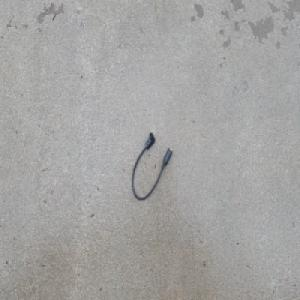Wire: (131, 130, 173, 201)
